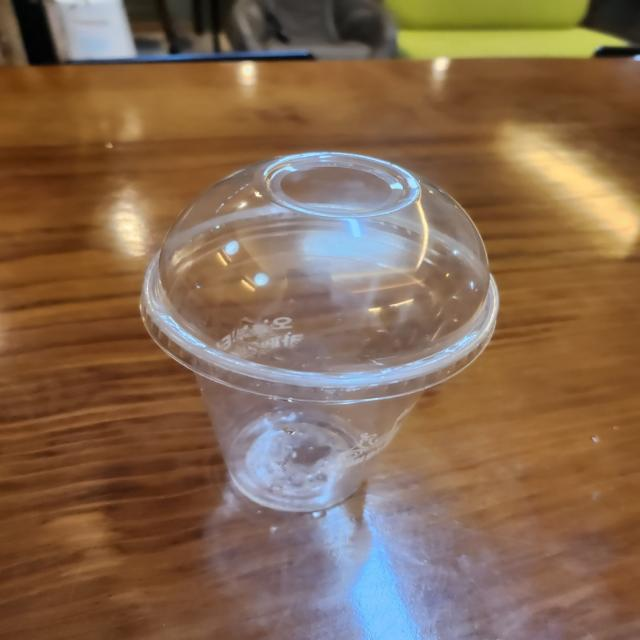plastic_cup_lid: (126, 139, 514, 407)
